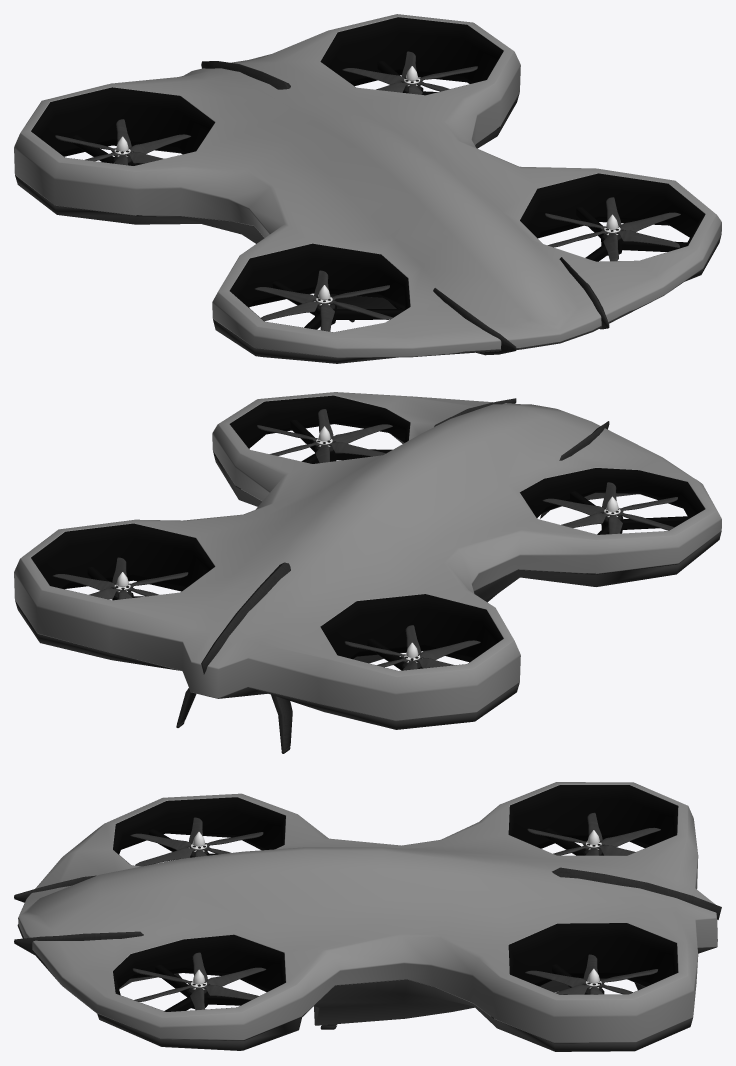
Rendered from drone.glb.
3 renders of one model, top to bottom at view 1: azimuth 30°, elevation 25°; view 2: azimuth 150°, elevation 25°; view 3: azimuth 270°, elevation 25°, orthographic.
Visible parts, largest first — view 1: Drone Body_Top Metal; view 2: Drone Body_Top Metal; view 3: Drone Body_Top Metal.
Part boxes in pixels (<box>): Drone Body_Top Metal: <box>14,14,721,363</box>; Drone Body_Top Metal: <box>14,392,721,753</box>; Drone Body_Top Metal: <box>14,782,721,1051</box>.
Bounding box in the file's own units: 0.3005 × 0.0984 × 0.4014.
14 materials, 2 textured.
